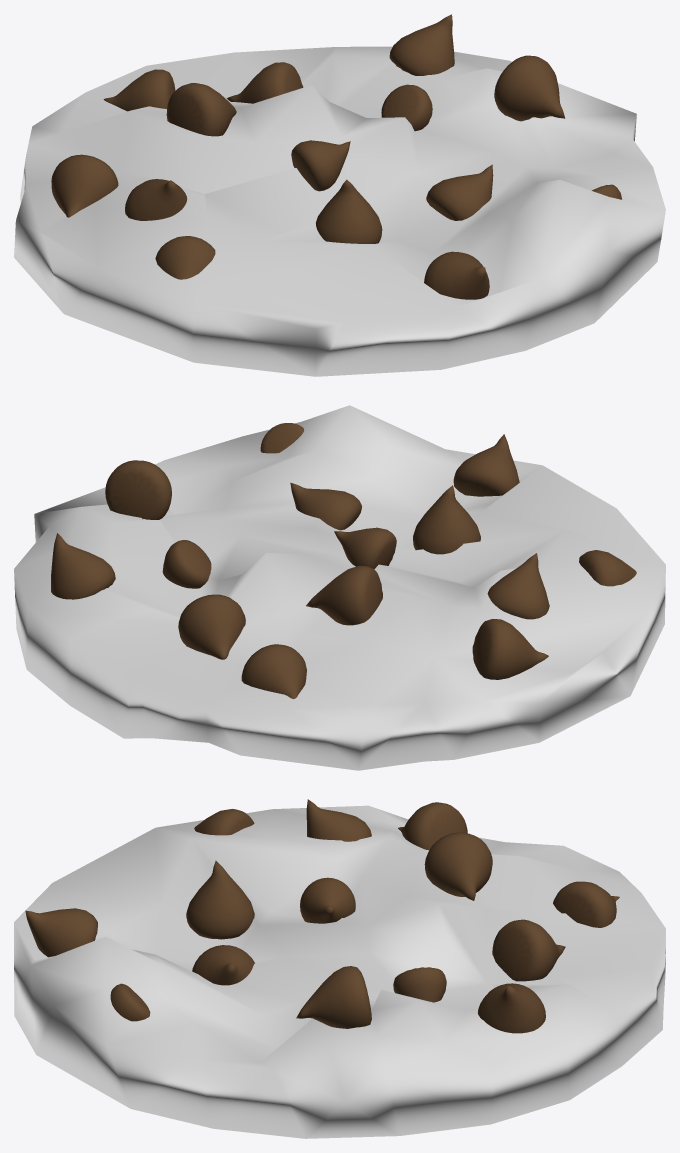
File: cookie no plate.fbx
The picture shows the model from 3 angles, top to bottom: view 1: azimuth 30°, elevation 25°; view 2: azimuth 150°, elevation 25°; view 3: azimuth 270°, elevation 25°; orthographic projection.
Parts seen in each view (by area): view 1: cookie, chocolate chips; view 2: cookie, chocolate chips; view 3: cookie, chocolate chips.
Part boxes in pixels (x1=…): cookie: x1=14, y1=46, x2=665, y2=376; chocolate chips: x1=51, y1=14, x2=621, y2=299; cookie: x1=14, y1=405, x2=665, y2=770; chocolate chips: x1=51, y1=423, x2=636, y2=698; cookie: x1=14, y1=805, x2=665, y2=1138; chocolate chips: x1=25, y1=799, x2=619, y2=1033.
Size of the model in its own units: 155 by 32.65 by 149.
